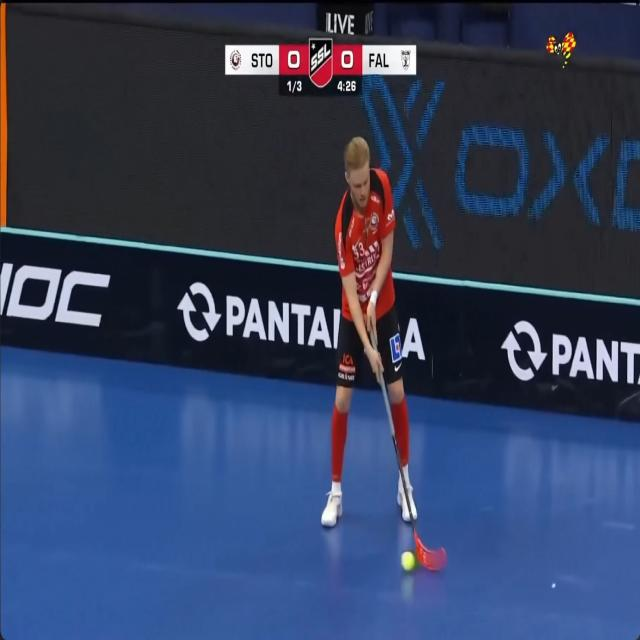Balls: (400, 551, 415, 570)
player: (321, 137, 416, 526)
stick: (379, 376, 446, 570)
